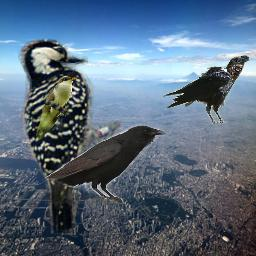Crow: (45, 124, 166, 204), (162, 55, 250, 124)
Cuckoo: (35, 76, 78, 140)
Woodpecker: (18, 35, 122, 235)
